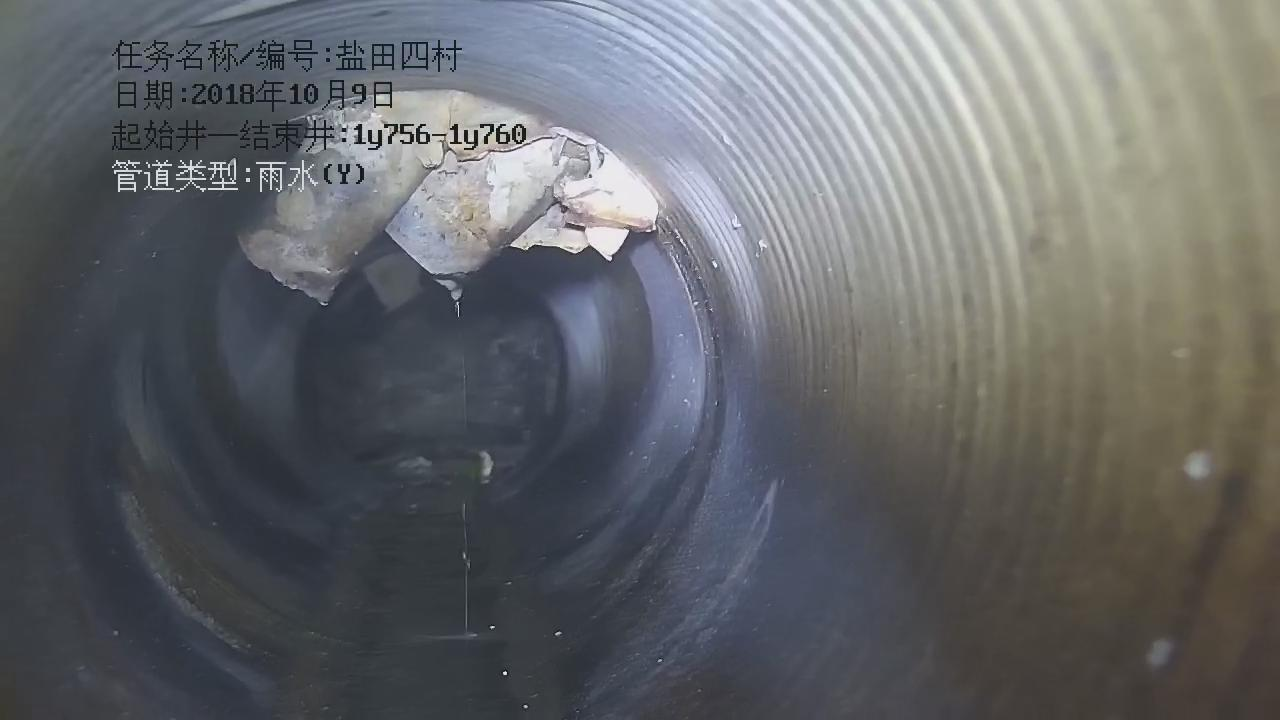ZGAJ: (239, 90, 593, 303)
